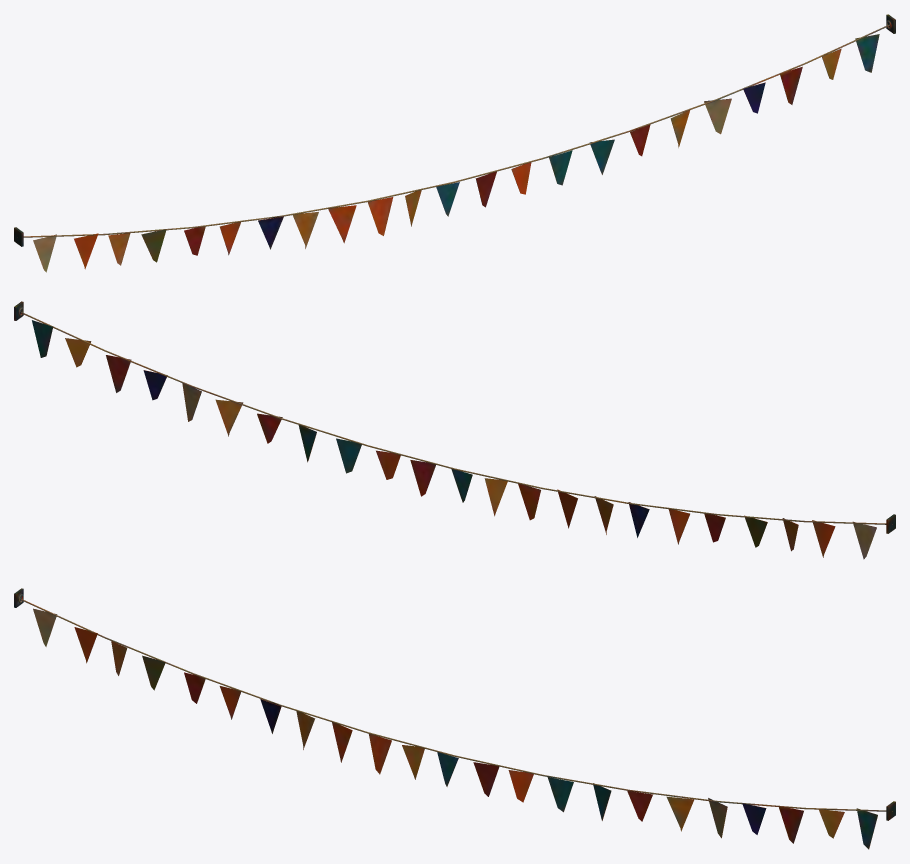
Rendered from bunting.glb.
3 views of the same model, one above another, from view 1: azimuth 30°, elevation 25°; view 2: azimuth 150°, elevation 25°; view 3: azimuth 330°, elevation 25° (orthographic).
Visible parts, largest first — view 1: bunting; view 2: bunting; view 3: bunting.
Part boxes in pixels (left/top/right/bottom): bunting: left=14, top=14, right=895, bottom=272; bunting: left=14, top=301, right=895, bottom=559; bunting: left=14, top=588, right=895, bottom=849.
Bounding box in the file's own units: 8 × 0.8243 × 0.12.
1 material, 1 textured.
